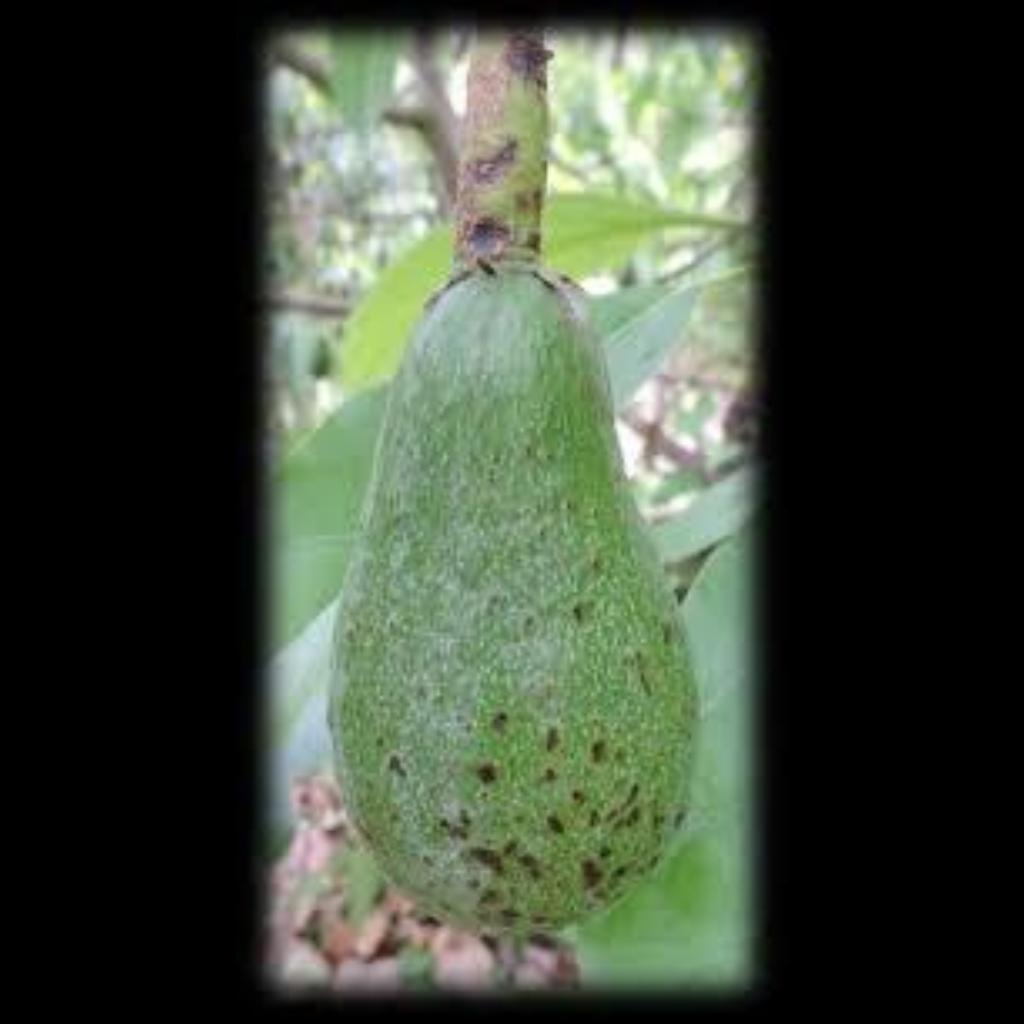cercospora: (322, 258, 727, 954)
